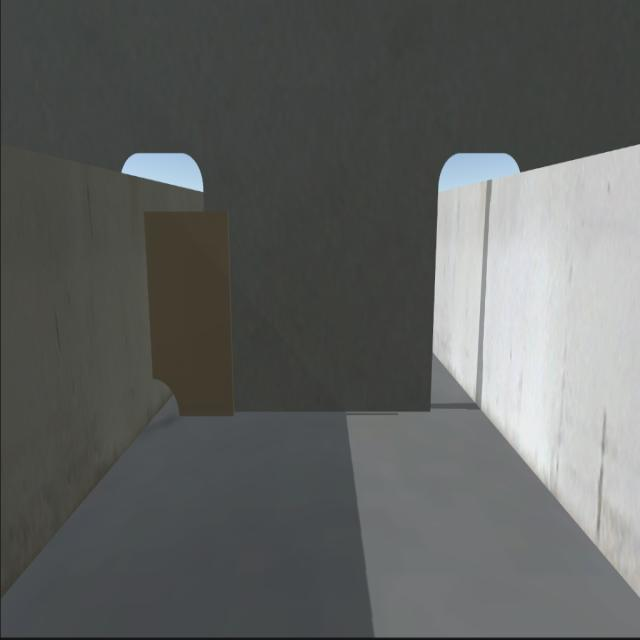fillet_hole: (148, 375, 184, 423)
fillet_yong_jeop_jang: (184, 408, 431, 419)
longi_yong_jeop_jang: (140, 216, 158, 380)
plate_CP01: (147, 216, 232, 418)
